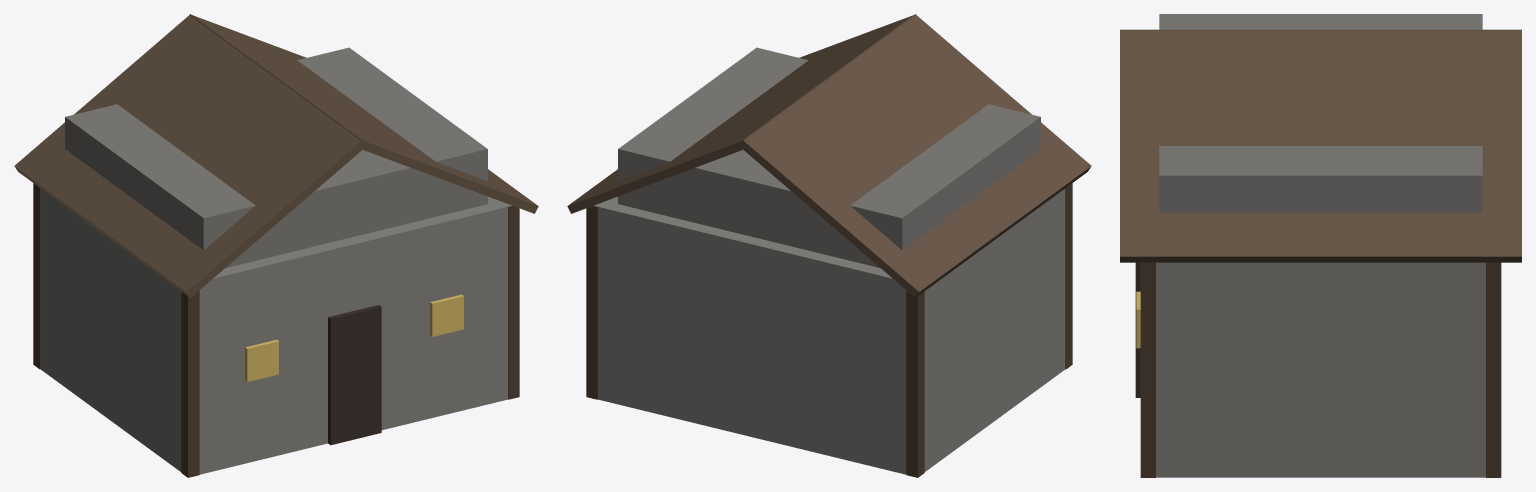
File: house_stone.glb
The picture shows the model from 3 angles, left to right: view 1: azimuth 30°, elevation 25°; view 2: azimuth 150°, elevation 25°; view 3: azimuth 270°, elevation 25°; orthographic projection. The views are drawn at different scales.
Parts seen in each view (by area): view 1: house_stone; view 2: house_stone; view 3: house_stone.
Boxes of the visible parts, box(x1,y1,x2,y2) form: house_stone: box(14, 14, 538, 477); house_stone: box(567, 14, 1091, 477); house_stone: box(1120, 14, 1521, 477).
Size of the model in its own units: 5.54 by 4.57 by 4.7.
1 material, 1 textured.
